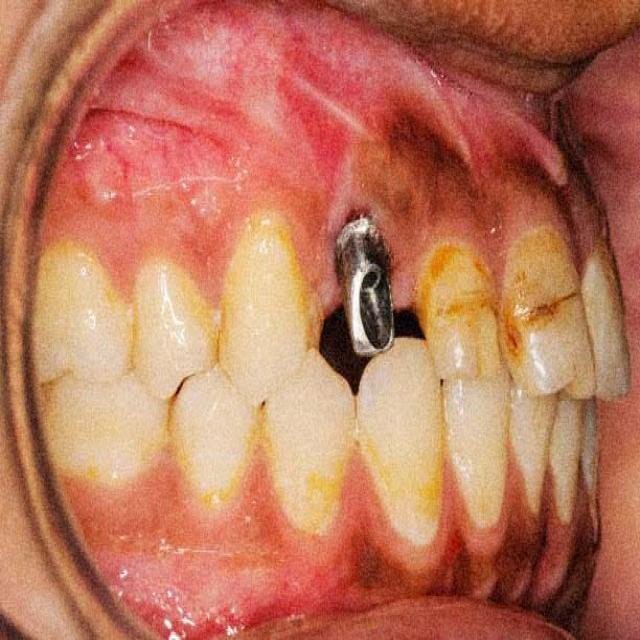caries: (509, 293, 579, 354), (432, 281, 504, 330)
